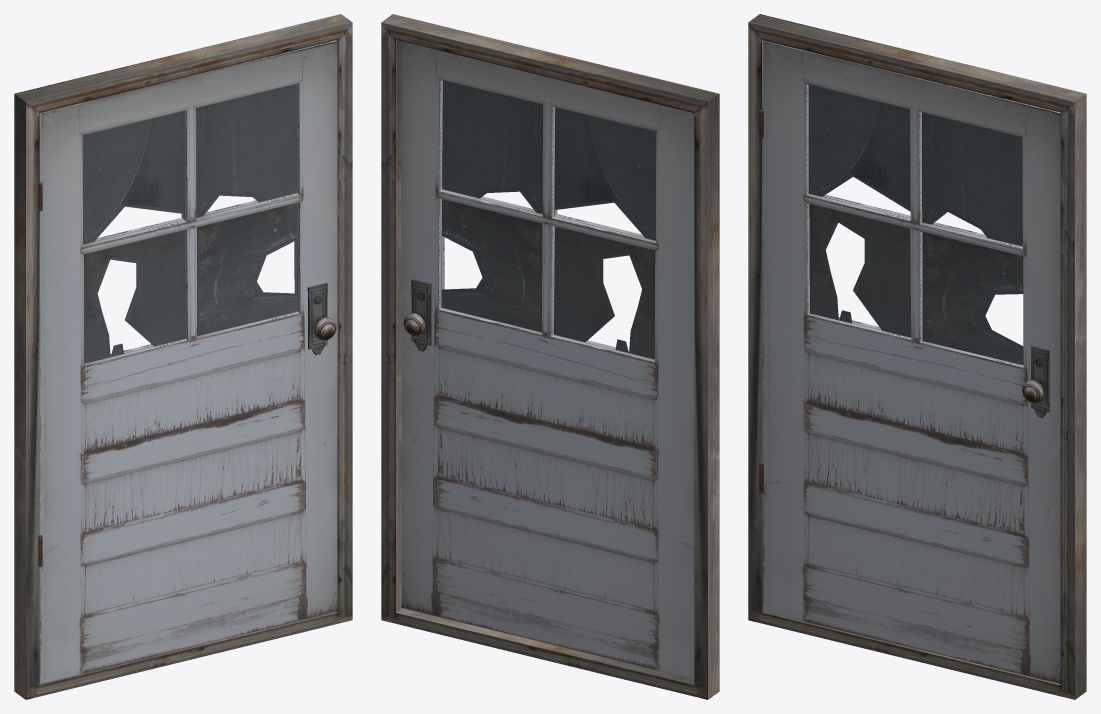
Rendered from Door_06.FBX.
3 views of the same model, side by side, from view 1: azimuth 30°, elevation 25°; view 2: azimuth 150°, elevation 25°; view 3: azimuth 330°, elevation 25° (orthographic).
Parts seen in each view (by area): view 1: Door_06, Door_06_glass (×4), Door_06_Frame; view 2: Door_06, Door_06_Frame, Door_06_glass (×4); view 3: Door_06, Door_06_glass (×4), Door_06_Frame.
Boxes of the visible parts, box(x1,y1,x2,y2) form: Door_06: box(38, 40, 337, 683); Door_06_glass (×4): box(83, 84, 297, 363); Door_06_Frame: box(14, 14, 352, 699); Door_06: box(401, 41, 694, 678); Door_06_Frame: box(381, 14, 719, 699); Door_06_glass (×4): box(441, 81, 655, 359); Door_06: box(759, 40, 1060, 683); Door_06_glass (×4): box(808, 84, 1023, 365); Door_06_Frame: box(748, 14, 1086, 699).
Bounding box in the file's own units: 130 × 19.08 × 228.
4 materials, 4 textured.
